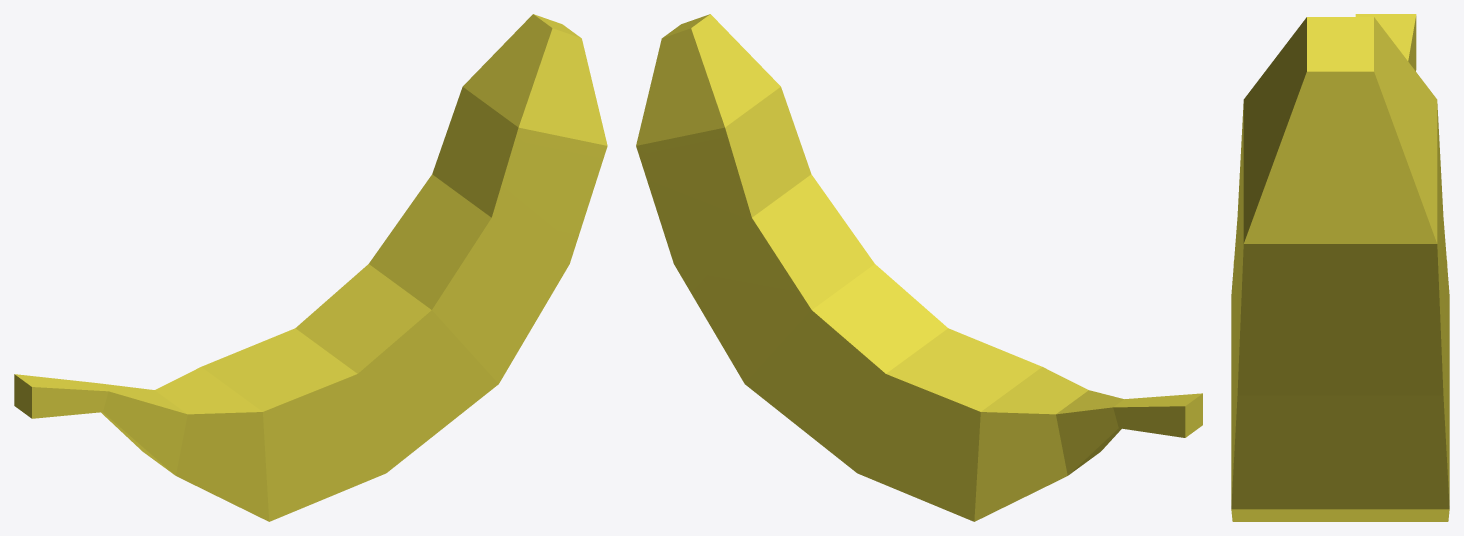
Rendered from banana.fbx.
3 renders of one model, left to right at view 1: azimuth 30°, elevation 25°; view 2: azimuth 150°, elevation 25°; view 3: azimuth 270°, elevation 25°, orthographic. The views are drawn at different scales.
Visible parts, largest first — view 1: banana; view 2: banana; view 3: banana.
Part boxes in pixels (x1=…): banana: x1=14, y1=14, x2=607, y2=521; banana: x1=636, y1=14, x2=1202, y2=521; banana: x1=1231, y1=14, x2=1449, y2=521.
Size of the model in its own units: 0.3021 by 0.2147 by 0.0608.
